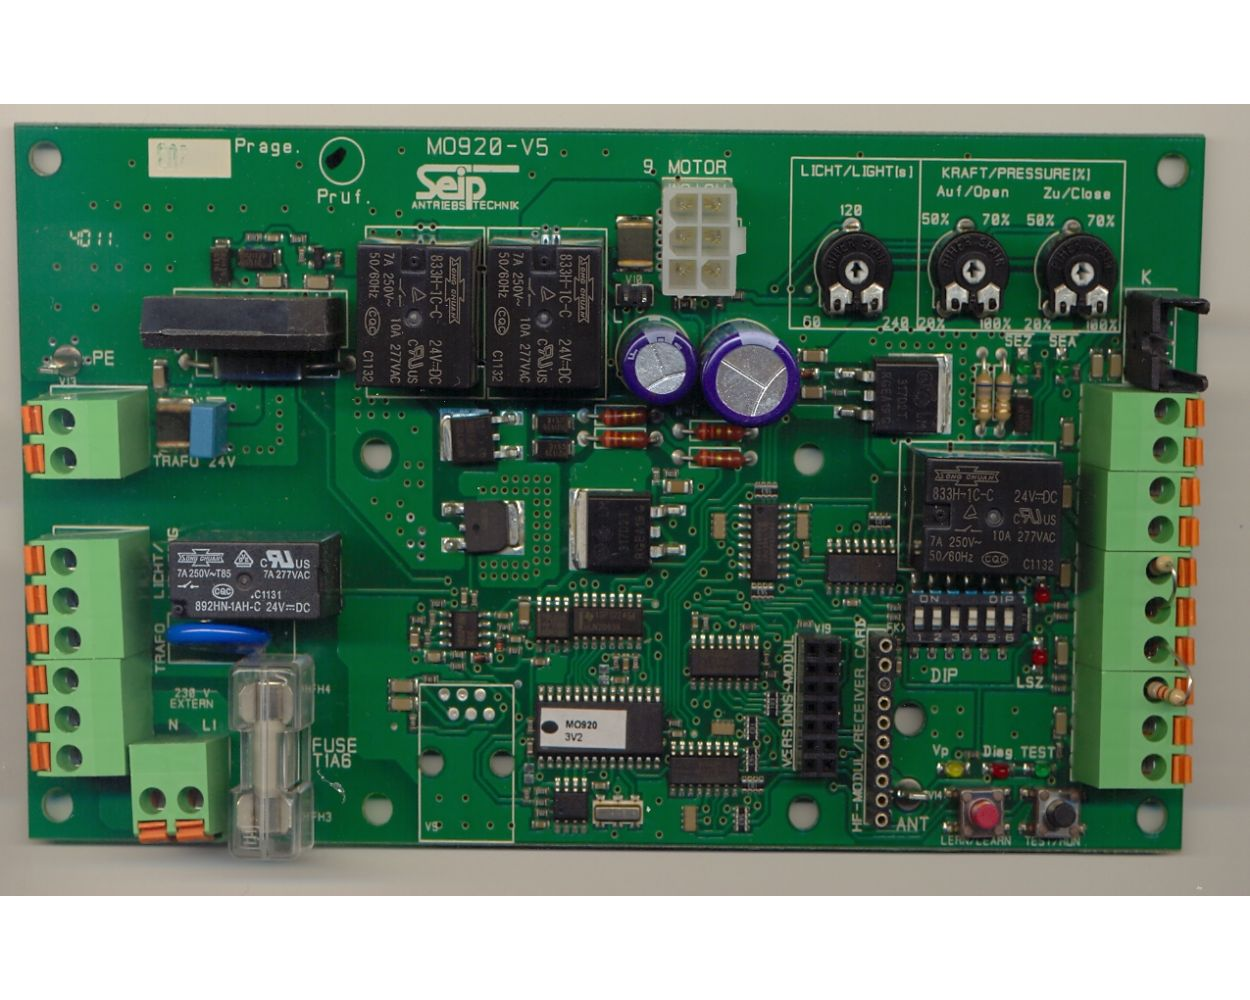capacitor: (701, 301, 808, 444), (617, 312, 704, 430)
